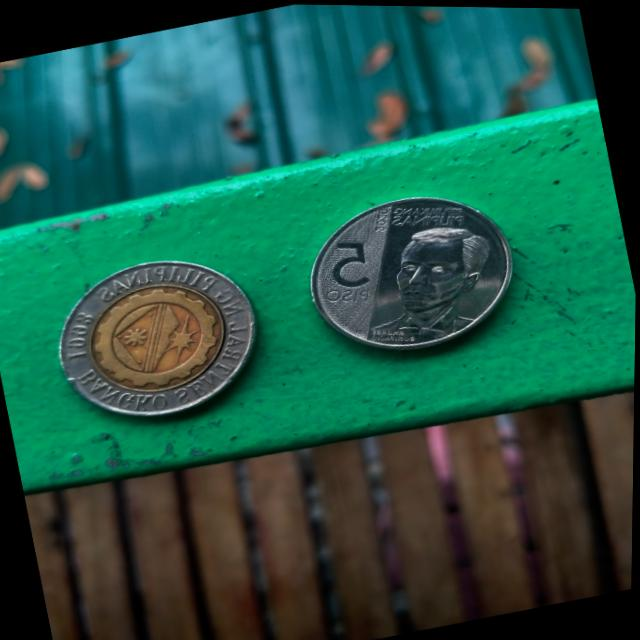10_Old_Back: (45, 242, 266, 435)
5_New_Front: (300, 232, 386, 313)
